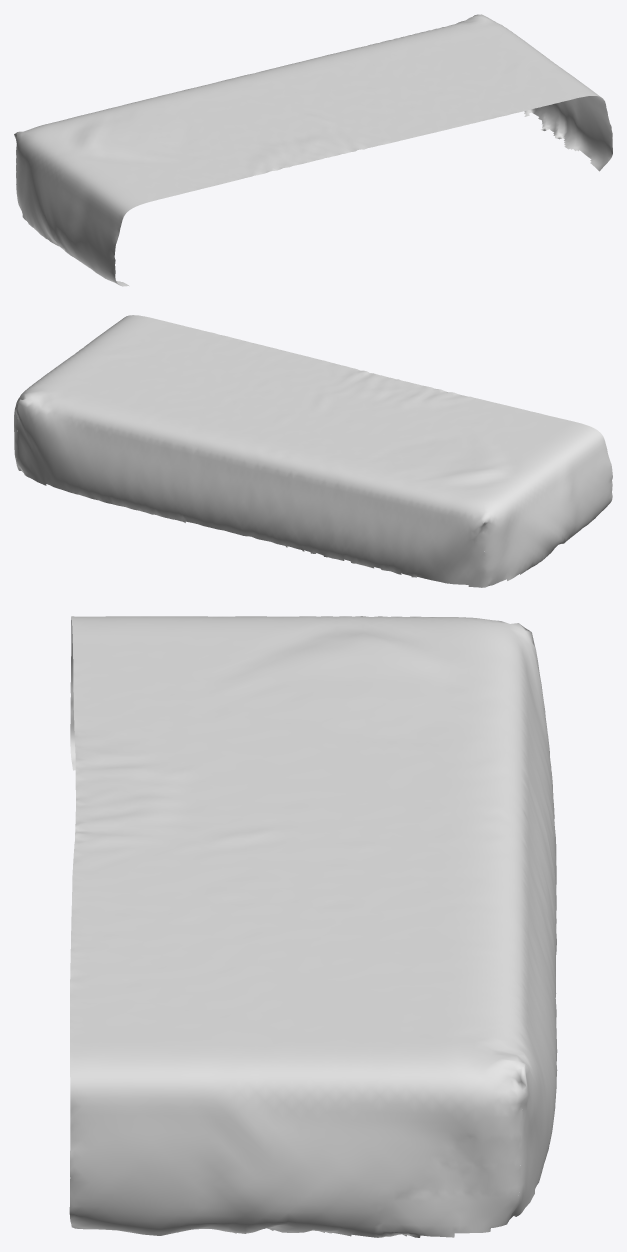
File: sheet 02.fbx
3 renders of one model, top to bottom at view 1: azimuth 30°, elevation 25°; view 2: azimuth 150°, elevation 25°; view 3: azimuth 270°, elevation 25°, orthographic. The views are drawn at different scales.
Parts seen in each view (by area): view 1: sheet 02; view 2: sheet 02; view 3: sheet 02.
Boxes of the visible parts, left/top/right/bottom form: sheet 02: left=14, top=14, right=612, bottom=286; sheet 02: left=14, top=315, right=612, bottom=587; sheet 02: left=69, top=616, right=557, bottom=1237.
Bounding box in the file's own units: 180 × 28.19 × 74.86.
1 material, 1 textured.
